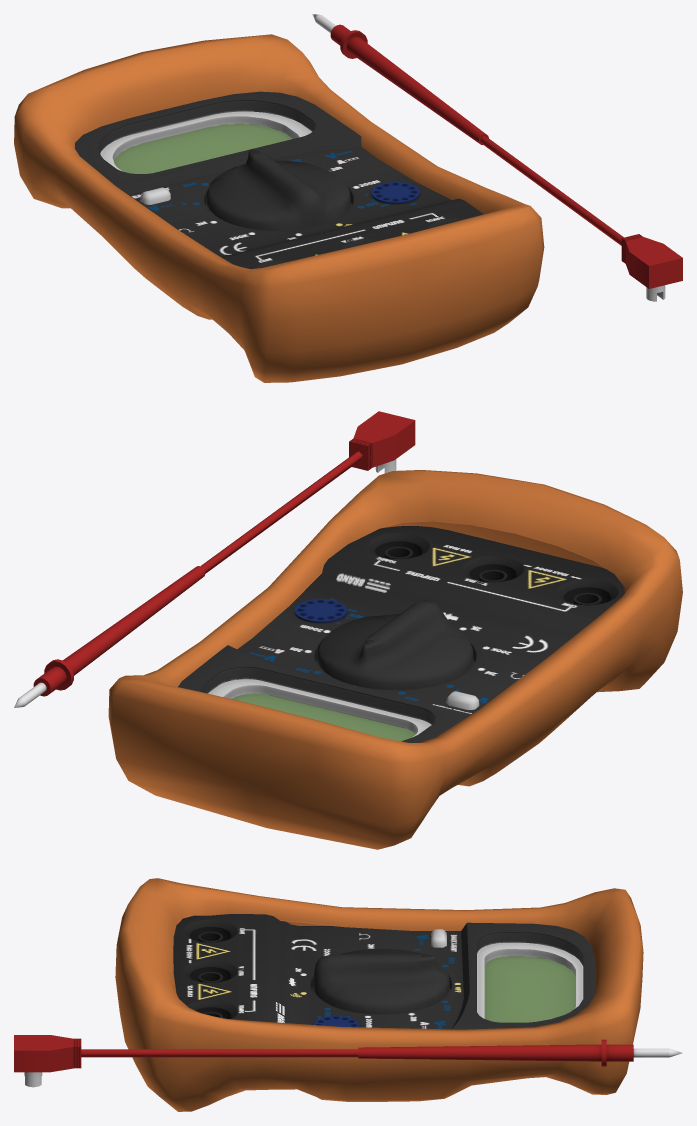
Rendered from multimeter.fbx.
The picture shows the model from 3 angles, top to bottom: view 1: azimuth 30°, elevation 25°; view 2: azimuth 150°, elevation 25°; view 3: azimuth 270°, elevation 25°; orthographic projection. The views are drawn at different scales.
Visible parts, largest first — view 1: multimeterholder_low, multimeter_low, multimeterrond_low, multimeterpointe_low, multimetertruc_low, multimeterwireREPLACE; view 2: multimeterholder_low, multimeter_low, multimeterrond_low, multimeterpointe_low, multimetertruc_low, multimeterwireREPLACE; view 3: multimeterholder_low, multimeter_low, multimeterrond_low, multimeterpointe_low, multimetertruc_low, multimeterwireREPLACE.
Boxes of the visible parts, box(x1,y1,x2,y2) form: multimeterholder_low: box(14, 34, 544, 382); multimeter_low: box(75, 91, 483, 269); multimeterrond_low: box(206, 149, 350, 230); multimeterpointe_low: box(312, 14, 488, 144); multimetertruc_low: box(621, 234, 682, 301); multimeterwireREPLACE: box(480, 136, 623, 245); multimeterholder_low: box(108, 470, 682, 849); multimeter_low: box(178, 526, 624, 742); multimeterrond_low: box(317, 600, 473, 689); multimeterpointe_low: box(14, 566, 205, 707); multimetertruc_low: box(349, 411, 415, 473); multimeterwireREPLACE: box(201, 451, 362, 573); multimeterholder_low: box(115, 878, 643, 1111); multimeter_low: box(173, 914, 594, 1029); multimeterrond_low: box(313, 949, 449, 1014); multimeterpointe_low: box(358, 1039, 682, 1066); multimetertruc_low: box(14, 1035, 81, 1087); multimeterwireREPLACE: box(81, 1049, 358, 1057).
Size of the model in its own units: 35.51 by 13.76 by 60.84.
Materials: 2 (1 with a texture image).
